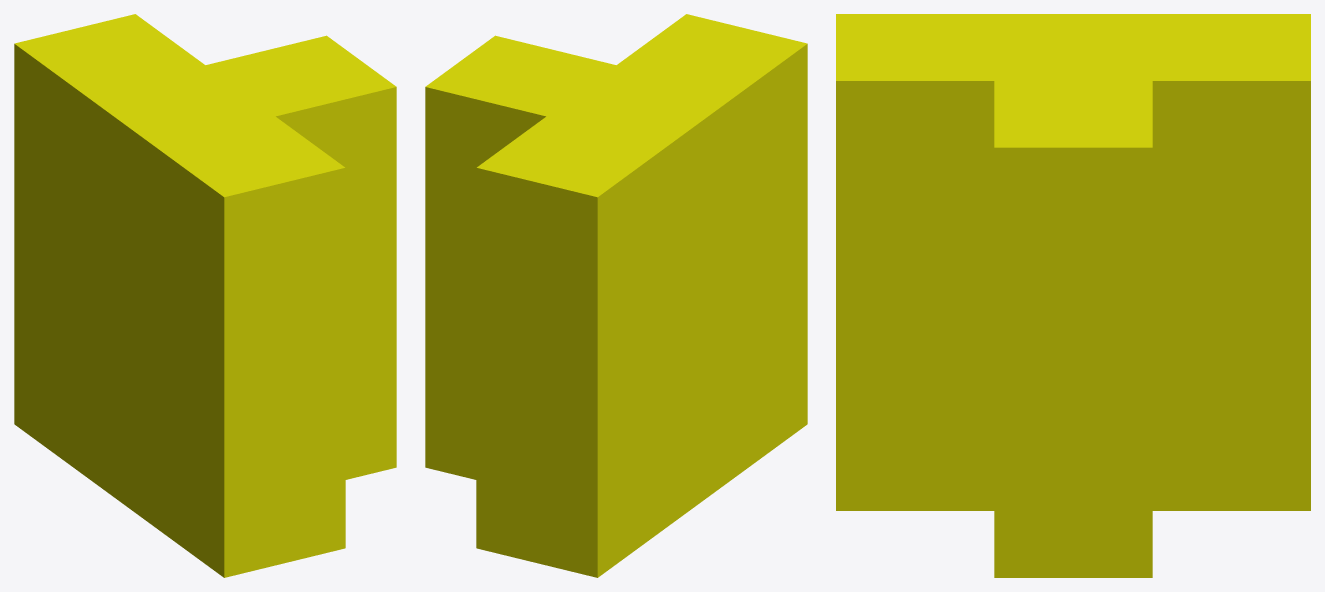
File: wall_T_3.fbx
The picture shows the model from 3 angles, left to right: view 1: azimuth 30°, elevation 25°; view 2: azimuth 150°, elevation 25°; view 3: azimuth 270°, elevation 25°; orthographic projection. The views are drawn at different scales.
Parts seen in each view (by area): view 1: wall_T_3; view 2: wall_T_3; view 3: wall_T_3.
Boxes of the visible parts, x1,y1,x2,y2 form: wall_T_3: [14, 14, 396, 577]; wall_T_3: [425, 14, 807, 577]; wall_T_3: [836, 14, 1310, 577].
Size of the model in its own units: 2 by 3 by 3.
